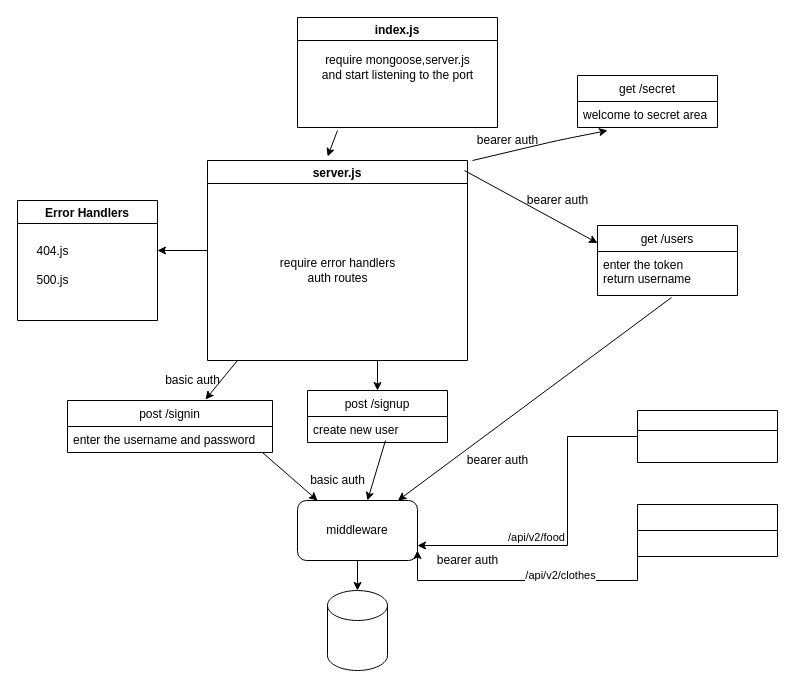
This 795x688 diagram has some shape labels left out. Each missing label, with the centre of its shape:
"clothes" belongs at [707,530].
"food" belongs at [707,436].
"mongoDB" belongs at [357,630].
